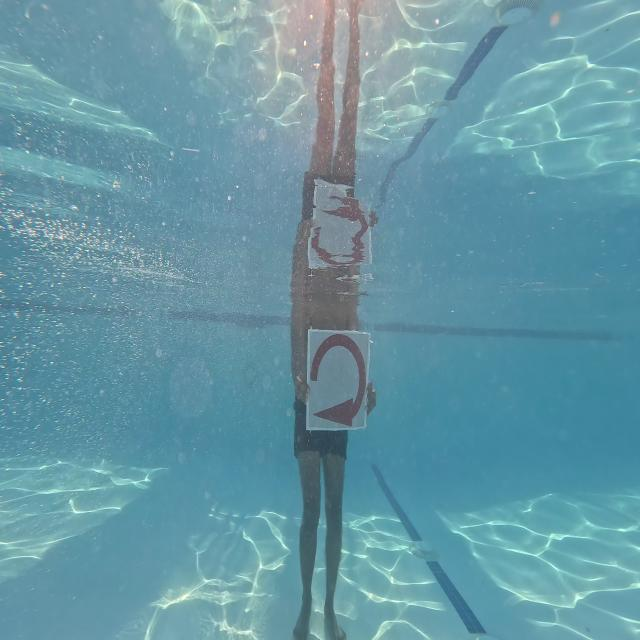red_side: (306, 328, 368, 431)
